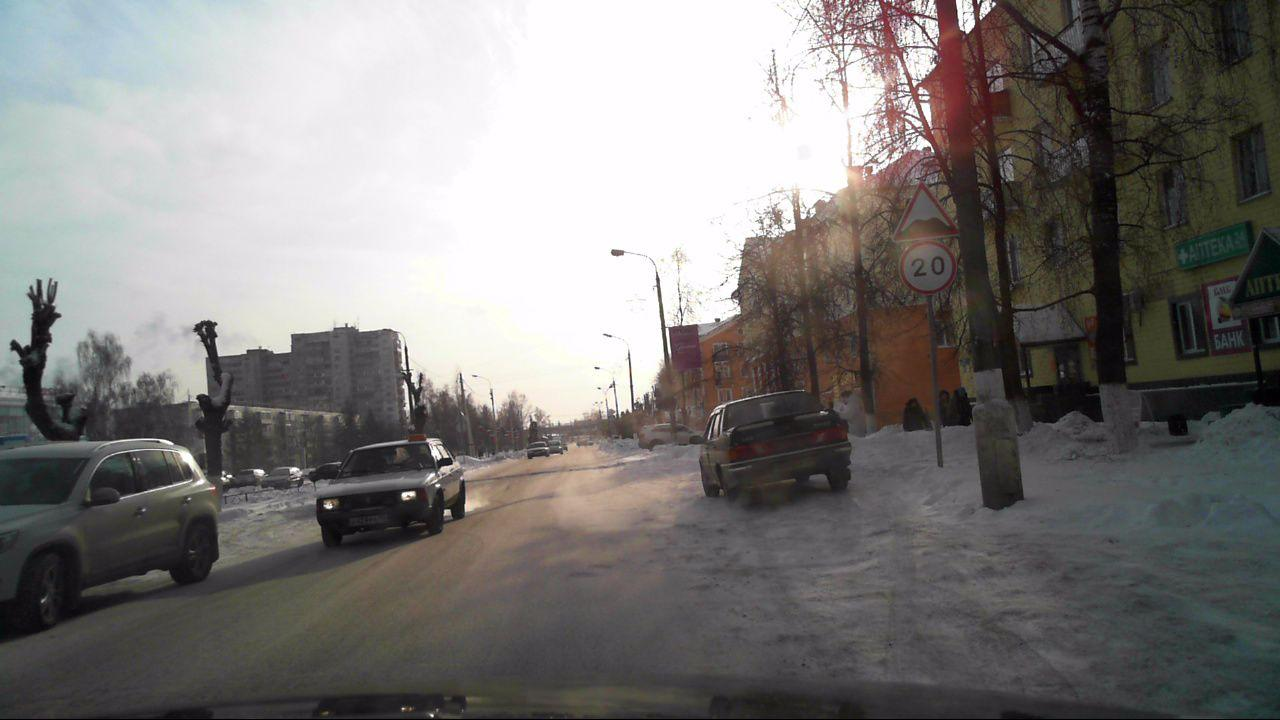1_16: (891, 179, 962, 242)
3_24: (896, 240, 958, 295)
